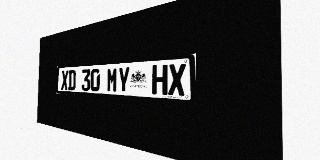0: (90, 68, 100, 92)
3: (82, 69, 90, 91)
D: (68, 70, 76, 90)
H: (152, 64, 168, 95)
M: (107, 67, 118, 92)
X: (168, 63, 186, 96), (61, 70, 68, 90)
Y: (118, 67, 130, 93)
